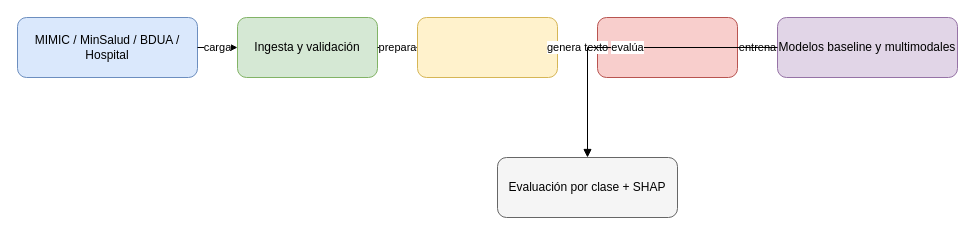
Some shapes in this 975 by 235 pixel diagram are drawn without their labels. The shapes that lost their labels are listed below. From the top down, each one's centre as x and y in pixels, then its label:
At (x=487, y=47): "Preprocesamiento".
At (x=667, y=47): "Embeddings textuales".
